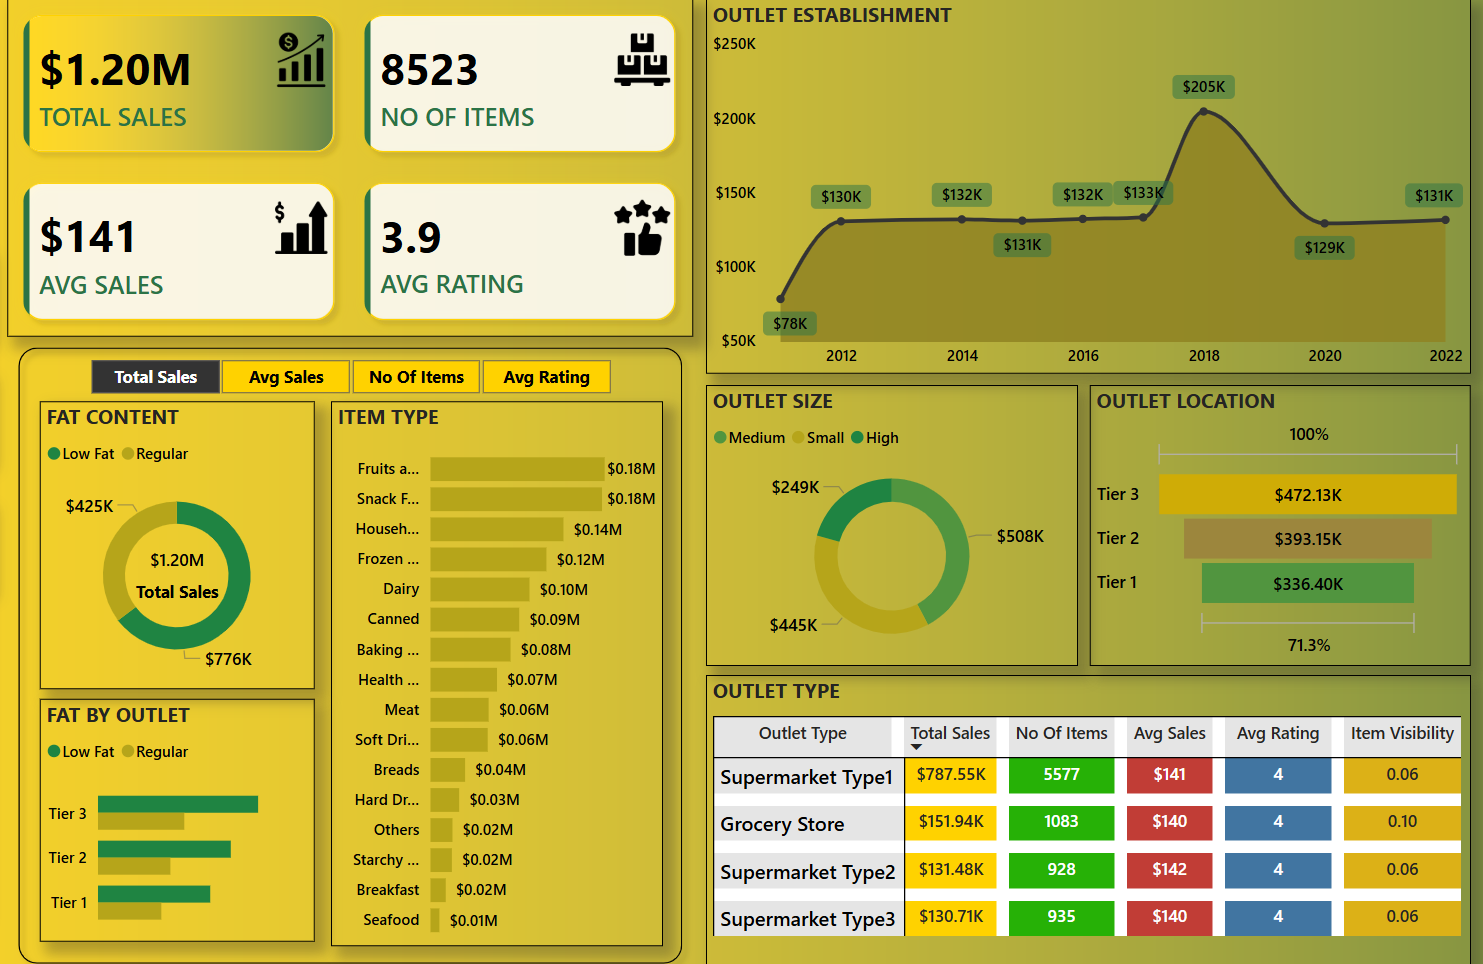

The dashboard page shown, as its layout file describes it:
{"tool":"powerbi","page":{"name":"Page 1","canvas":[1400,800],"ordinal":0},"visuals":[{"type":"shape","box":[5.1,6.4,199.7,787.2],"z":0},{"type":"textbox","box":[1.3,19.1,214.9,85.2],"z":1000},{"type":"textbox","box":[1.3,77.6,207.3,35.6],"z":2000},{"type":"cardVisual","fields":{"Data":["BlinkIT Grocery Data.Total Sales","BlinkIT Grocery Data.No Of Items","BlinkIT Grocery Data.Avg Sales","BlinkIT Grocery Data.Avg Rating"]},"box":[208.6,19.1,549.4,269.6],"z":3000},{"type":"shape","box":[208.6,288.7,549.4,511.3],"z":4000},{"type":"donutChart","title":"FAT CONTENT","fields":{"Y":["BlinkIT Grocery Data.Total Sales"],"Category":["BlinkIT Grocery Data.Item Fat Content"]},"box":[235.3,340.8,220,230.2],"z":5000},{"type":"slicer","fields":{"Values":["Matrics.Matrics"]},"box":[250.5,301.4,465.5,39.4],"z":6000},{"type":"card","fields":{"Values":["BlinkIT Grocery Data.Total Sales"]},"box":[300.1,441.3,90.3,76.3],"z":7000},{"type":"clusteredBarChart","title":"FAT BY OUTLET","fields":{"Y":["BlinkIT Grocery Data.Total Sales"],"Category":["BlinkIT Grocery Data.Outlet Location Type"],"Series":["BlinkIT Grocery Data.Item Fat Content"]},"box":[235.3,578.7,220,194.6],"z":8000},{"type":"barChart","title":"ITEM TYPE","fields":{"Y":["BlinkIT Grocery Data.Total Sales"],"Category":["BlinkIT Grocery Data.Item Type"]},"box":[468,340.8,265.8,436.2],"z":9000},{"type":"lineChart","title":"OUTLET ESTABLISHMENT","fields":{"Y":["BlinkIT Grocery Data.Total Sales"],"Category":["BlinkIT Grocery Data.Outlet Establishment Year"]},"box":[768.2,19.1,611.7,300.1],"z":10000},{"type":"donutChart","title":"OUTLET SIZE","fields":{"Y":["BlinkIT Grocery Data.Total Sales"],"Category":["BlinkIT Grocery Data.Outlet Size"]},"box":[768.2,328.1,297.6,225.1],"z":11000},{"type":"funnel","title":"OUTLET LOCATION","fields":{"Category":["BlinkIT Grocery Data.Outlet Location Type"],"Y":["BlinkIT Grocery Data.Total Sales"]},"box":[1074.7,328.1,305.2,225.1],"z":12000},{"type":"pivotTable","title":"OUTLET TYPE","fields":{"Rows":["BlinkIT Grocery Data.Outlet Type"],"Values":["BlinkIT Grocery Data.Total Sales","BlinkIT Grocery Data.No Of Items","BlinkIT Grocery Data.Avg Sales","BlinkIT Grocery Data.Avg Rating","Avg(BlinkIT Grocery Data.Item Visibility)"]},"box":[768.2,559.6,611.7,232.7],"z":13000},{"type":"slicer","fields":{"Values":["BlinkIT Grocery Data.Outlet Location Type"]},"box":[20.3,221.3,170.4,67.4],"z":14000},{"type":"slicer","fields":{"Values":["BlinkIT Grocery Data.Outlet Size"]},"box":[20.3,319.2,170.4,67.4],"z":15000},{"type":"slicer","fields":{"Values":["BlinkIT Grocery Data.Item Type"]},"box":[20.3,422.2,170.4,67.4],"z":16000},{"type":"actionButton","box":[38.2,181.9,135.9,39.3],"z":17000},{"type":"image","box":[25.8,550.2,157.2,57.3],"z":18000}]}

Visuals, with their boxes on the page's 1400x800 design canvas (x1, y1, x2, y2). These are canvas units, not pixel positions in the 1483x964 screenshot, which may show the page scaled, cropped or inside an application window:
shape: <box>5,6,205,794</box>
textbox: <box>1,19,216,104</box>
textbox: <box>1,78,209,113</box>
cardVisual - BlinkIT Grocery Data.Total Sales x BlinkIT Grocery Data.No Of Items: <box>209,19,758,289</box>
shape: <box>209,289,758,800</box>
"FAT CONTENT" donutChart: <box>235,341,455,571</box>
slicer - Matrics.Matrics: <box>250,301,716,341</box>
card - BlinkIT Grocery Data.Total Sales: <box>300,441,390,518</box>
"FAT BY OUTLET" clusteredBarChart: <box>235,579,455,773</box>
"ITEM TYPE" barChart: <box>468,341,734,777</box>
"OUTLET ESTABLISHMENT" lineChart: <box>768,19,1380,319</box>
"OUTLET SIZE" donutChart: <box>768,328,1066,553</box>
"OUTLET LOCATION" funnel: <box>1075,328,1380,553</box>
"OUTLET TYPE" pivotTable: <box>768,560,1380,792</box>
slicer - BlinkIT Grocery Data.Outlet Location Type: <box>20,221,191,289</box>
slicer - BlinkIT Grocery Data.Outlet Size: <box>20,319,191,387</box>
slicer - BlinkIT Grocery Data.Item Type: <box>20,422,191,490</box>
actionButton: <box>38,182,174,221</box>
image: <box>26,550,183,608</box>
